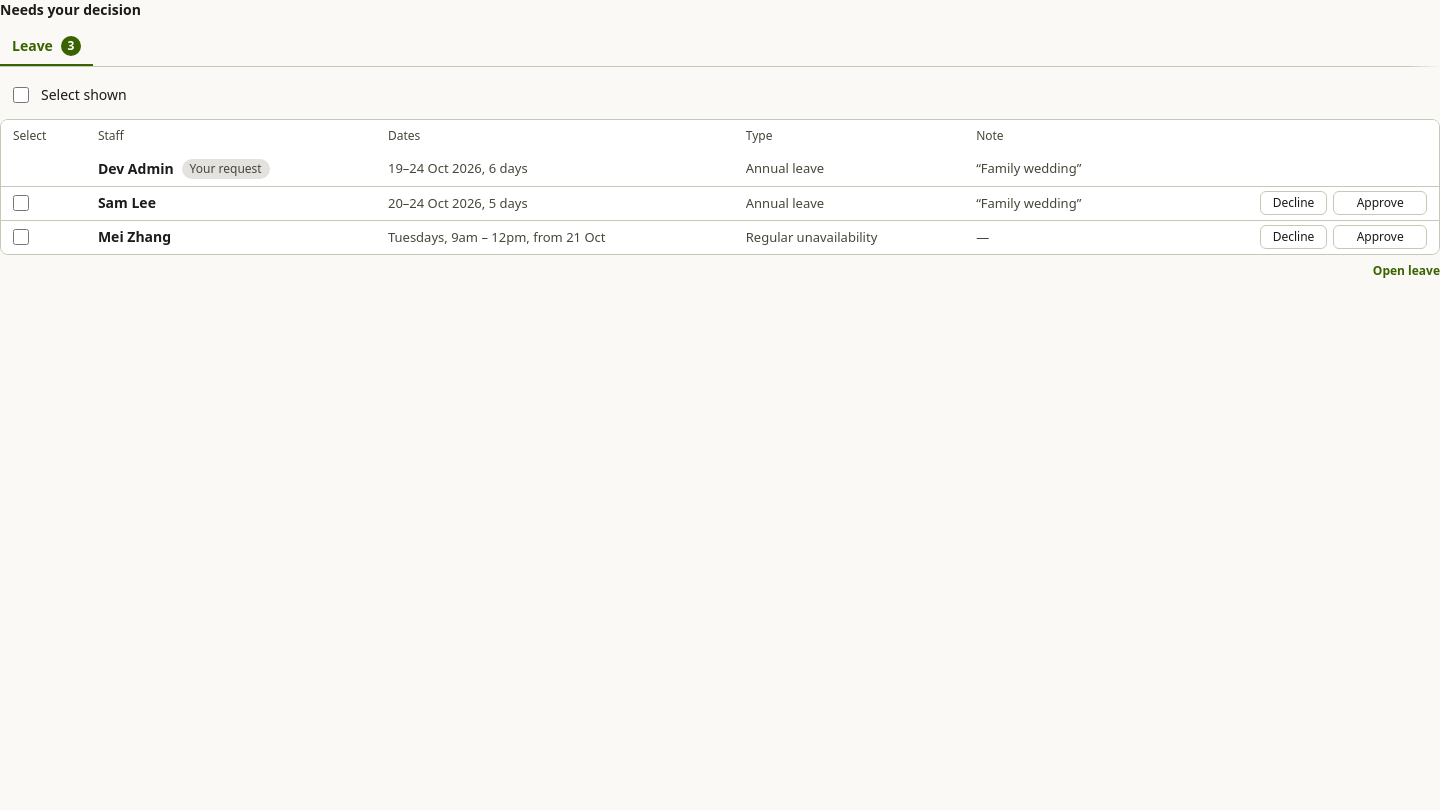
Test: Leave group — Complete all (decision-bulk) › approves every request but the viewer's own, one at a time through each row's own endpoint, and rolls the overlaps into one notice
Click the checkbox named "Select all shown leave requests" at (21, 95), box [13, 87, 29, 103]
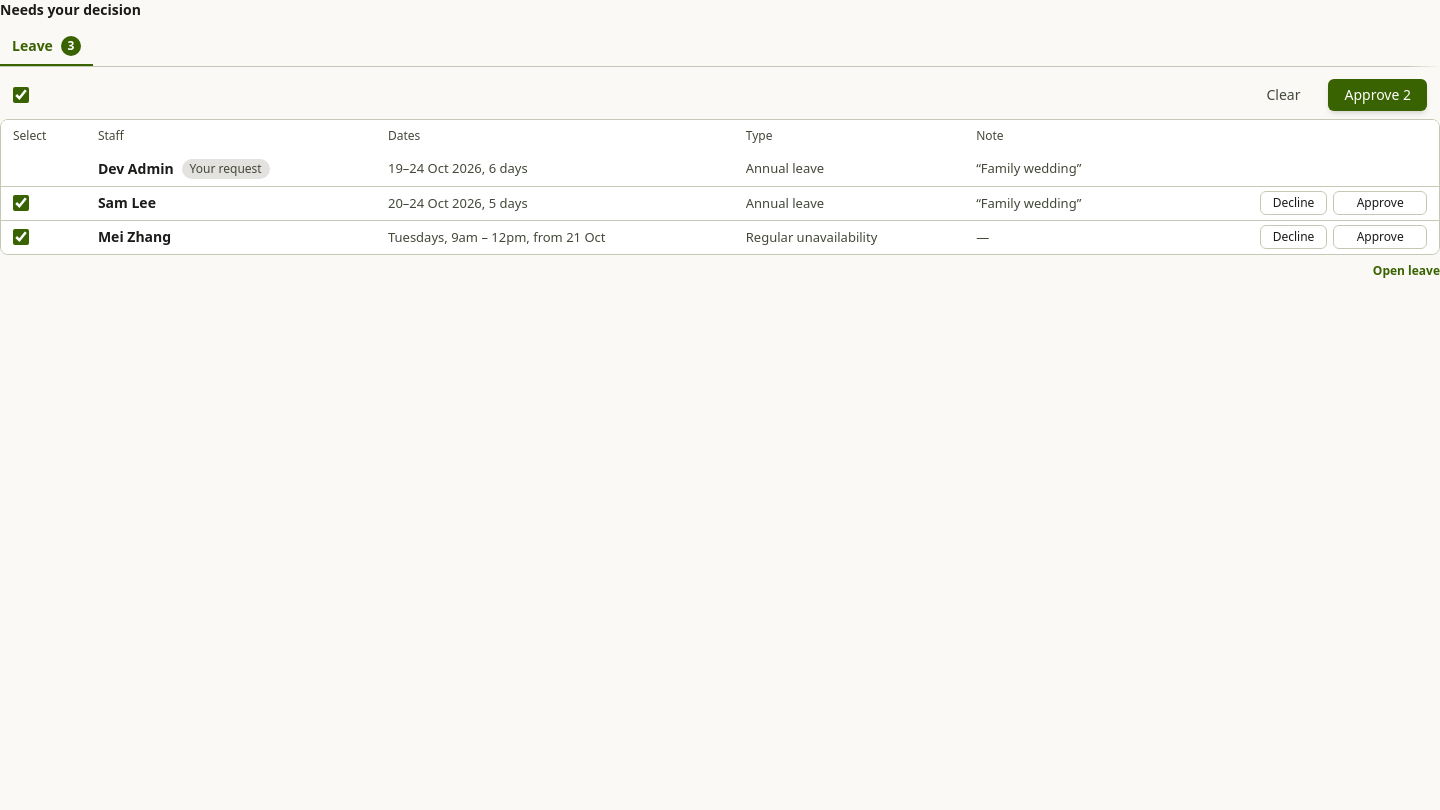
Click the button with aria-label "Approve 2 selected leave requests" at (1378, 95), box [1328, 79, 1427, 111]
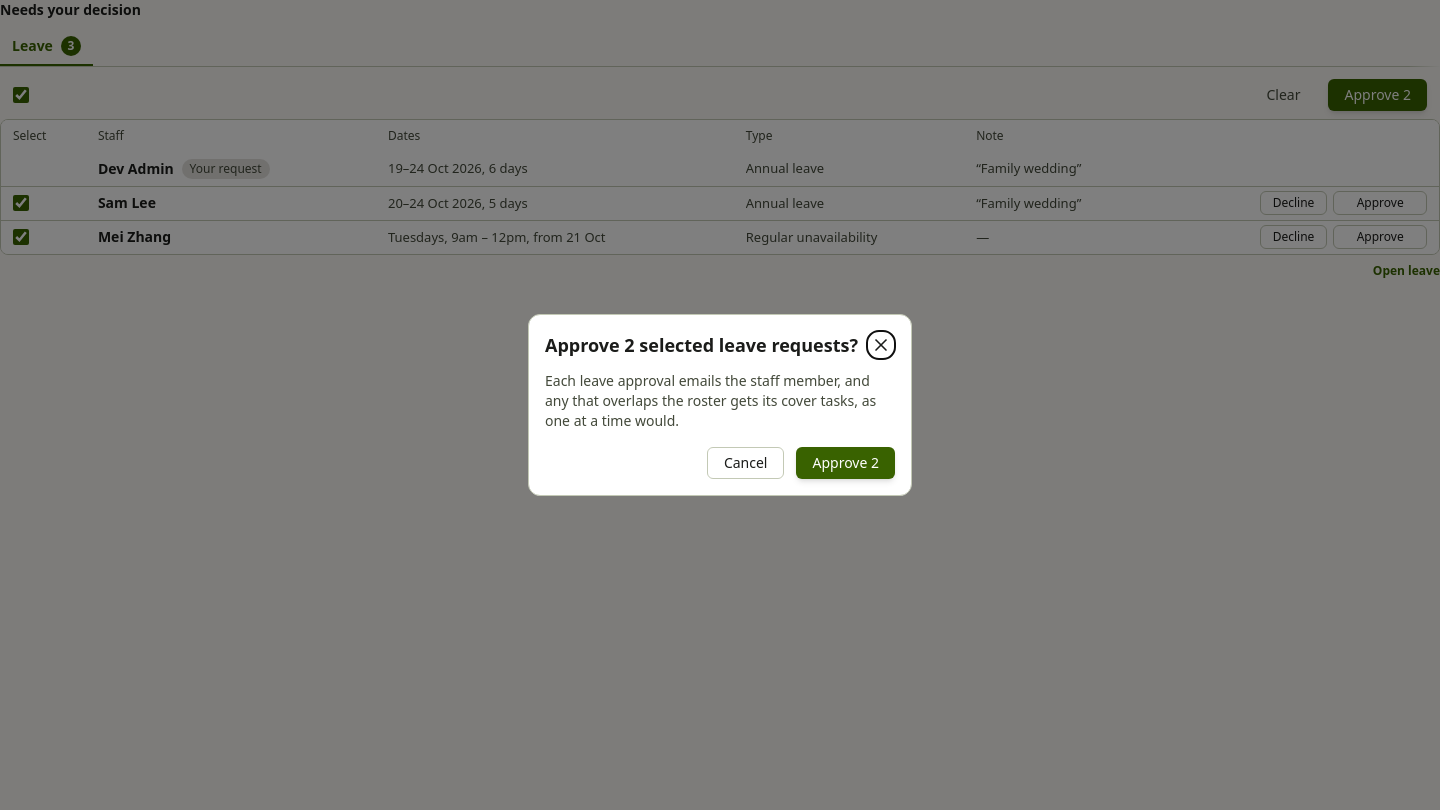
Now the dialog shows "2 selected leave requests", box [545, 333, 858, 357]
Click the button "Approve 2" at (846, 463), box [796, 447, 895, 479]
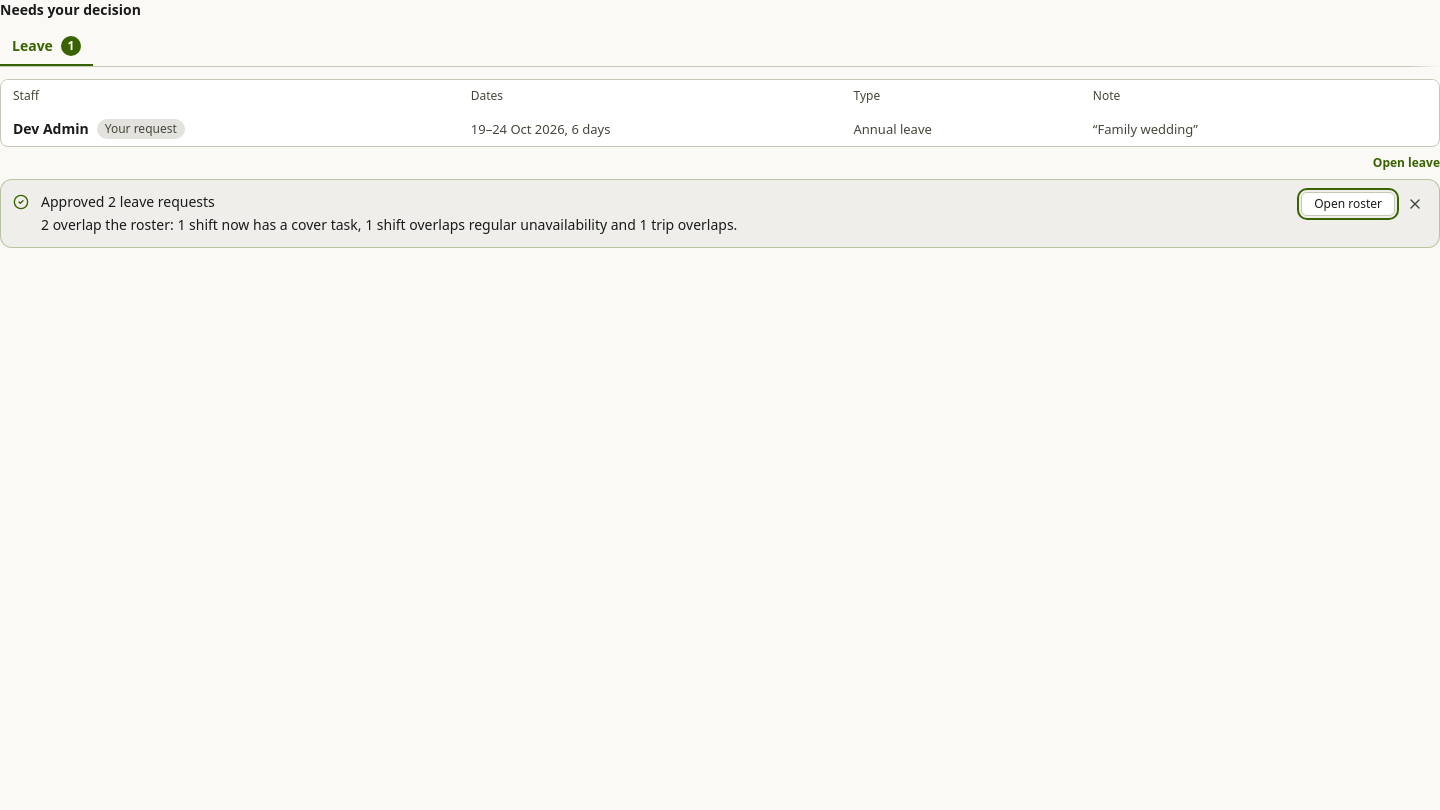
Now the text "Approved 2 leave requests" is shown, box [41, 192, 215, 211]
Now the text "2 overlap the roster: 1 shift now has a cover task, 1 shift overlaps regular unavailability and 1 trip overlaps." is shown, box [41, 215, 737, 234]
